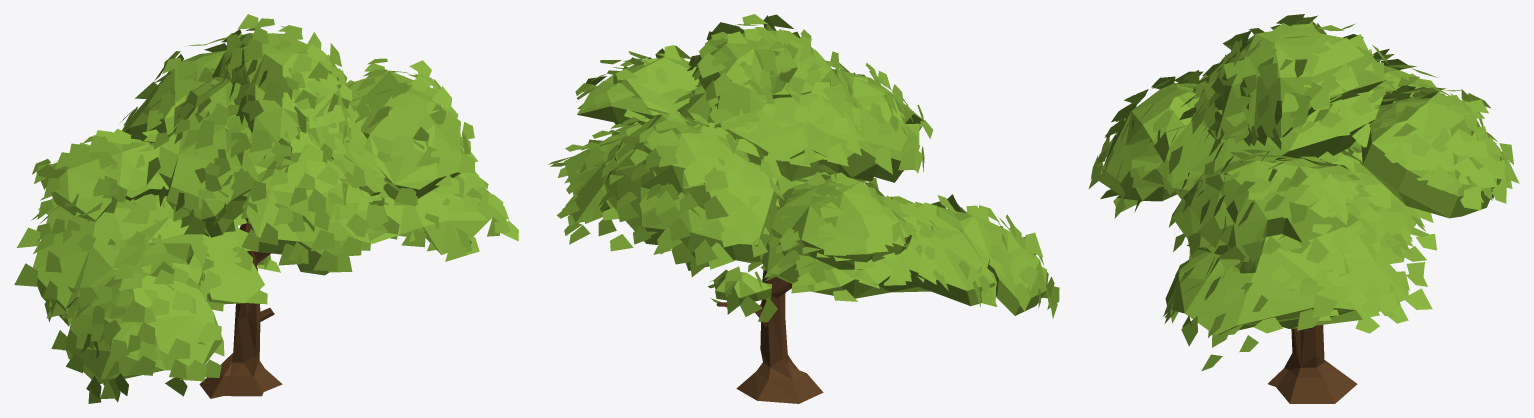
The model's file is SM_Tree_Oak_Mature_A.fbx.
3 views of the same model, side by side, from view 1: azimuth 30°, elevation 25°; view 2: azimuth 150°, elevation 25°; view 3: azimuth 270°, elevation 25° (orthographic). The views are drawn at different scales.
Visible parts, largest first — view 1: tree-oak-mature-a; view 2: tree-oak-mature-a; view 3: tree-oak-mature-a.
Boxes of the visible parts, x1=… form: tree-oak-mature-a: x1=14, y1=14, x2=518, y2=403; tree-oak-mature-a: x1=548, y1=14, x2=1059, y2=403; tree-oak-mature-a: x1=1088, y1=14, x2=1519, y2=403.
Size of the model in its own units: 11.86 by 8.85 by 9.07.
